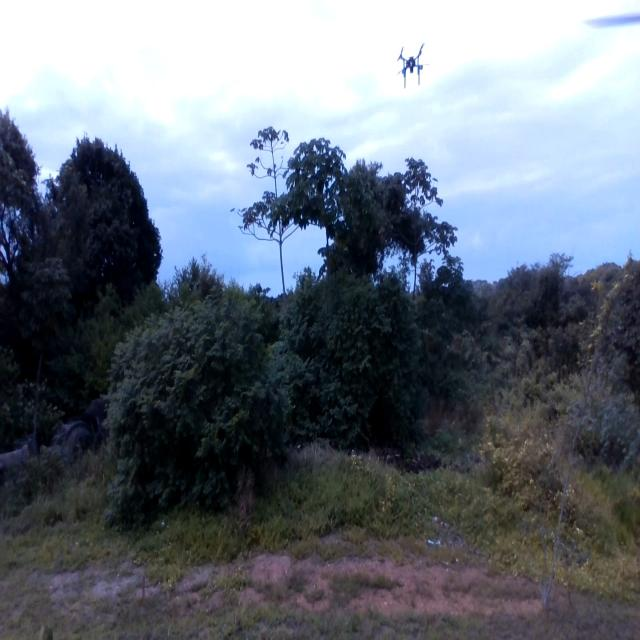-uav-: (392, 34, 428, 90)
